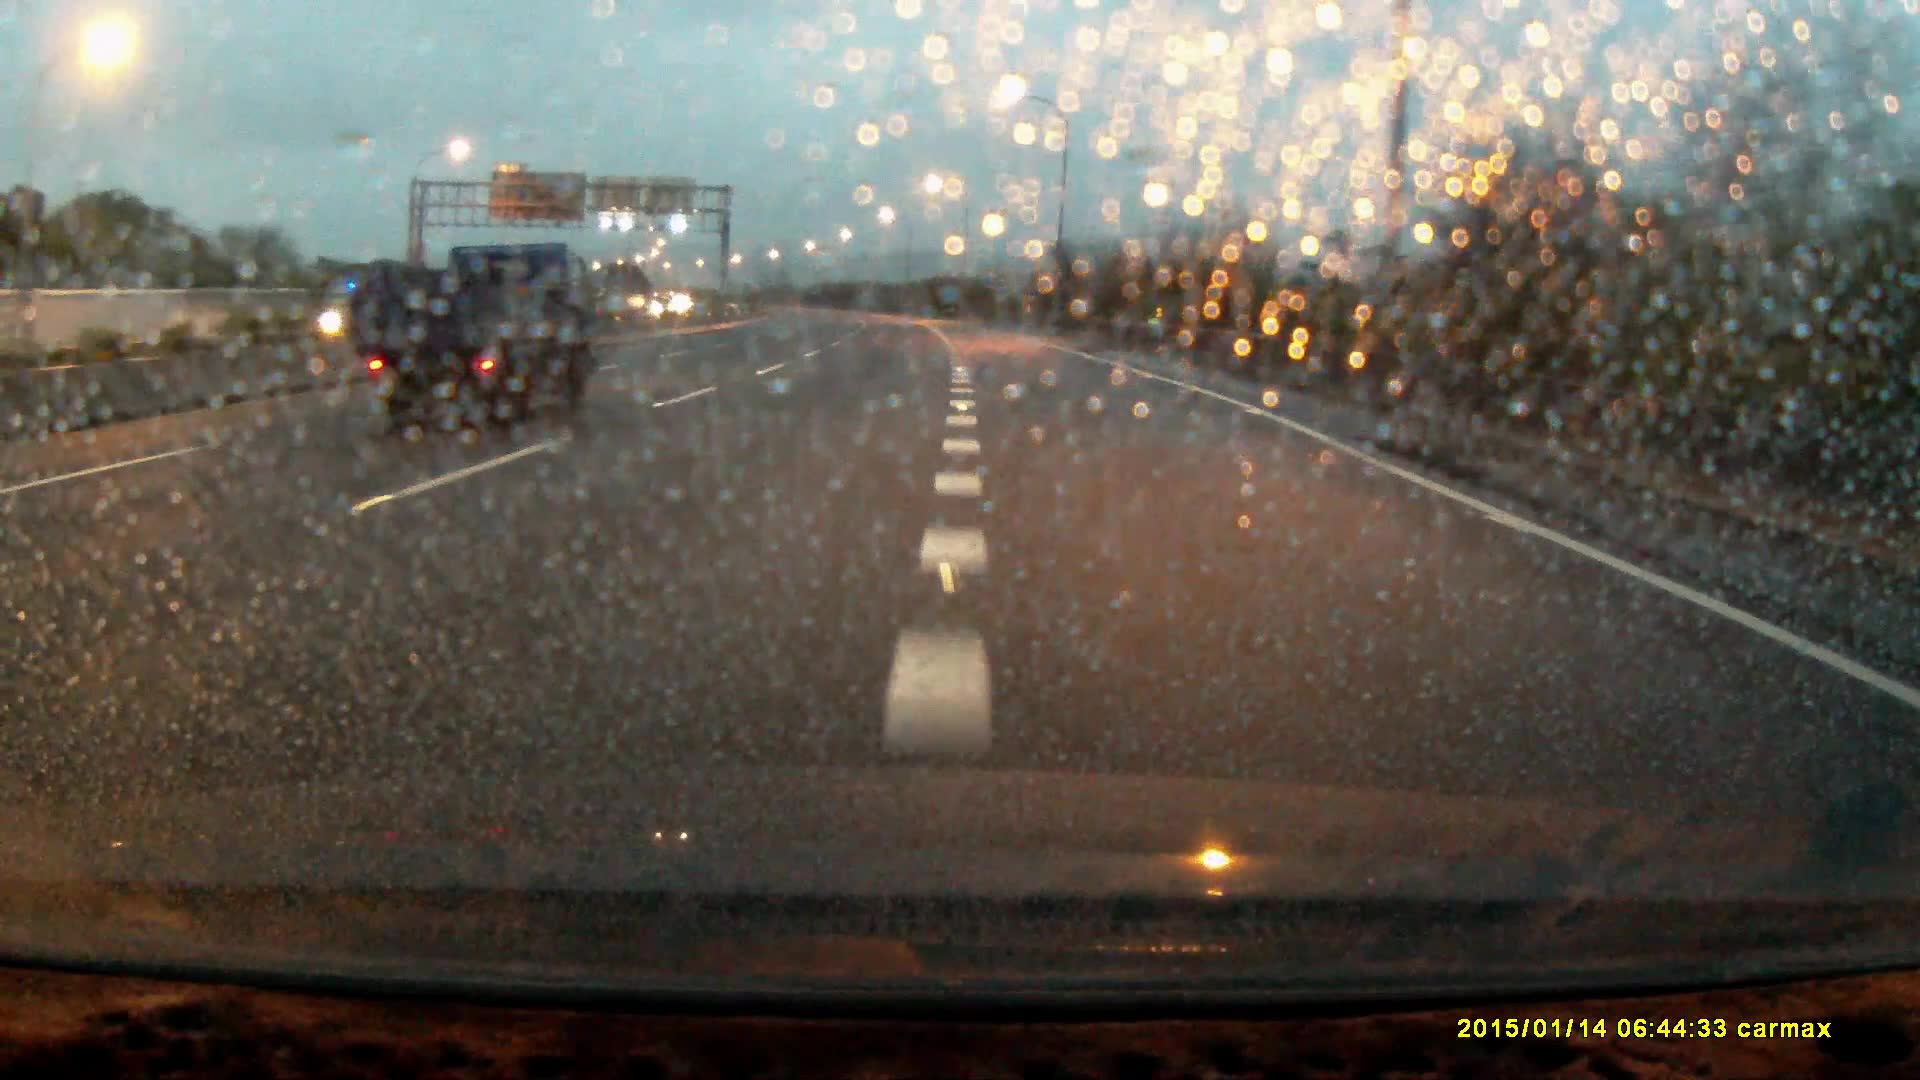vehicle: (349, 240, 587, 429)
